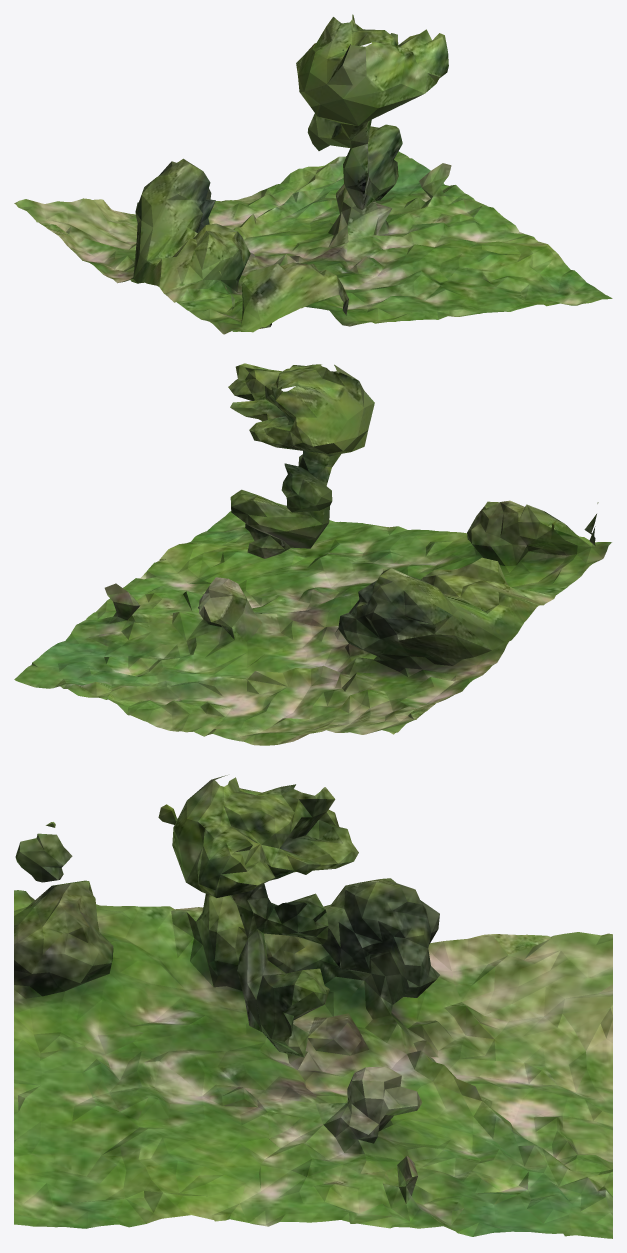
3 renders of one model, top to bottom at view 1: azimuth 30°, elevation 25°; view 2: azimuth 150°, elevation 25°; view 3: azimuth 270°, elevation 25°, orthographic. The views are drawn at different scales.
Bounding box in the file's own units: 26.11 × 17.35 × 26.11.
Materials: 4 (4 with a texture image).
